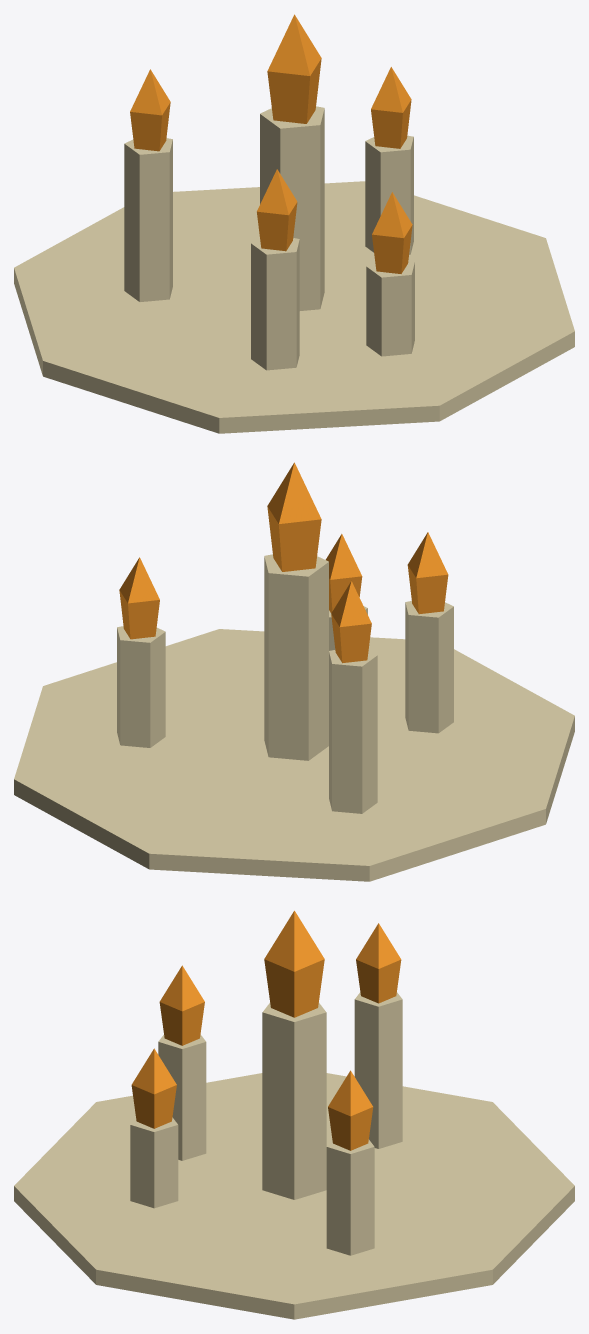
Rendered from candles_cluster.fbx.
The picture shows the model from 3 angles, top to bottom: view 1: azimuth 30°, elevation 25°; view 2: azimuth 150°, elevation 25°; view 3: azimuth 270°, elevation 25°; orthographic projection. The views are drawn at different scales.
Visible parts, largest first — view 1: candles_cluster; view 2: candles_cluster; view 3: candles_cluster.
Boxes of the visible parts, x1=… form: candles_cluster: x1=14, y1=14, x2=574, y2=433; candles_cluster: x1=14, y1=462, x2=574, y2=881; candles_cluster: x1=14, y1=910, x2=574, y2=1319.
Size of the model in its own units: 1 by 0.572 by 1.
